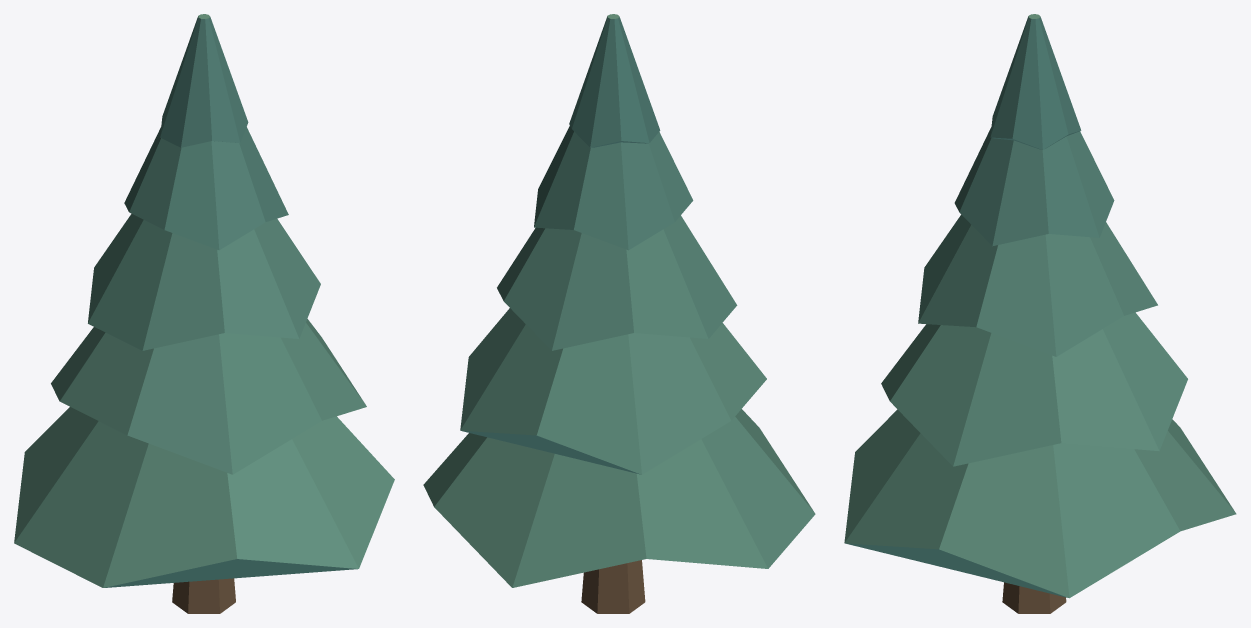
The model's file is tree_pine_a.glb.
3 views of the same model, side by side, from view 1: azimuth 30°, elevation 25°; view 2: azimuth 150°, elevation 25°; view 3: azimuth 270°, elevation 25° (orthographic).
Visible parts, largest first — view 1: tree_pine_a; view 2: tree_pine_a; view 3: tree_pine_a.
Part boxes in pixels (left/top/right/bottom): tree_pine_a: left=14, top=14, right=394, bottom=613; tree_pine_a: left=423, top=14, right=815, bottom=613; tree_pine_a: left=844, top=14, right=1236, bottom=613.
Bounding box in the file's own units: 3.24 × 5.25 × 3.19.
